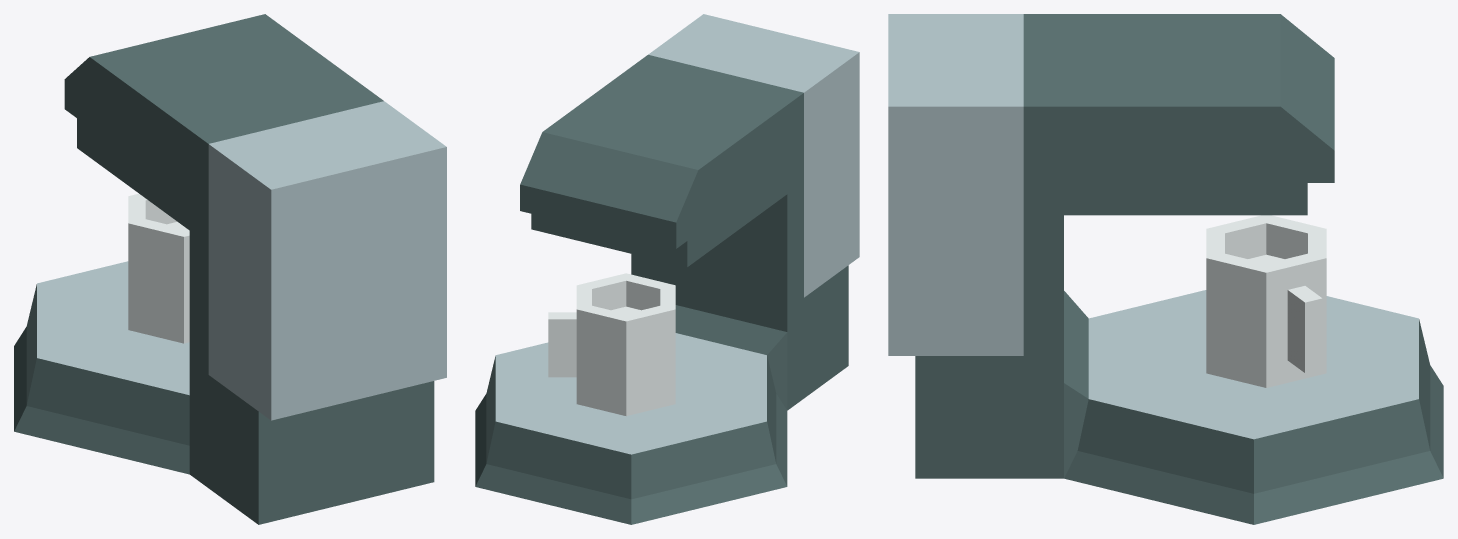
Rendered from kitchen_coffee_machine_prop.obj.
The picture shows the model from 3 angles, left to right: view 1: azimuth 30°, elevation 25°; view 2: azimuth 150°, elevation 25°; view 3: azimuth 270°, elevation 25°; orthographic projection. The views are drawn at different scales.
Visible parts, largest first — view 1: kitchenCoffeeMachine:mug1; view 2: kitchenCoffeeMachine:mug1; view 3: kitchenCoffeeMachine:mug1.
Part boxes in pixels (<box>): kitchenCoffeeMachine:mug1: <box>14,14,446,524</box>; kitchenCoffeeMachine:mug1: <box>475,14,859,524</box>; kitchenCoffeeMachine:mug1: <box>888,14,1443,524</box>.
Bounding box in the file's own units: 0.1895 × 0.1775 × 0.2402.
